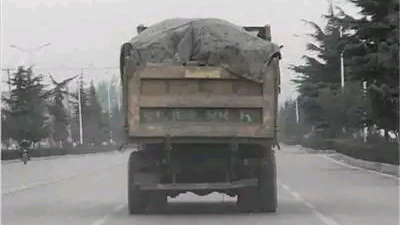chaozhai: (119, 16, 281, 215)
